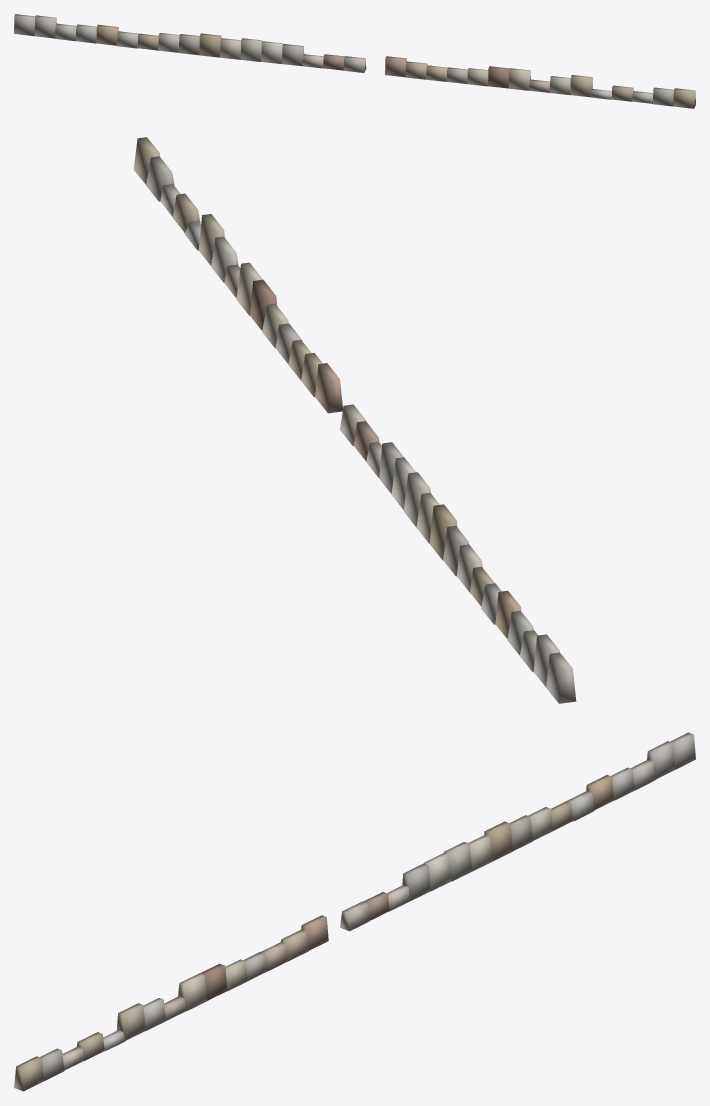
File: farm_23_17_collision.glb
3 views of the same model, one above another, from view 1: azimuth 30°, elevation 25°; view 2: azimuth 150°, elevation 25°; view 3: azimuth 270°, elevation 25° (orthographic). The views are drawn at different scales.
Parts seen in each view (by area): view 1: geometry_0; view 2: geometry_0; view 3: geometry_0.
Part boxes in pixels (<box>): geometry_0: <box>14,14,695,108</box>; geometry_0: <box>133,137,576,703</box>; geometry_0: <box>14,732,695,1091</box>.
Size of the model in its own units: 38.98 by 2.51 by 35.43.
